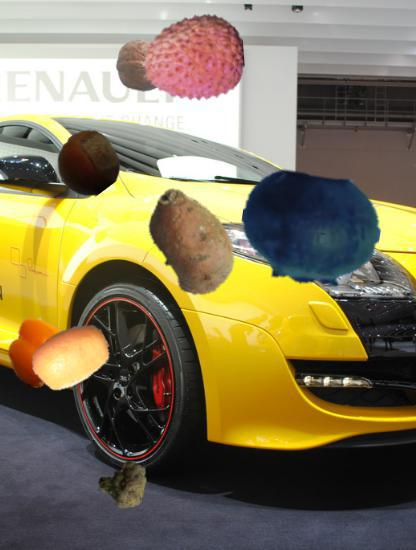Apricot: (180, 30, 238, 88)
Cauliflower: (97, 459, 148, 510)
Huckleberry: (241, 160, 381, 300)
Kumquats: (31, 317, 111, 397)
Lychee: (142, 7, 245, 110)
Nut: (56, 132, 119, 195)
Pepper: (7, 319, 77, 389)
Potato: (134, 184, 249, 299)
Walnut: (116, 39, 169, 92)
